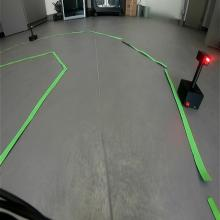red: (195, 50, 212, 68)
